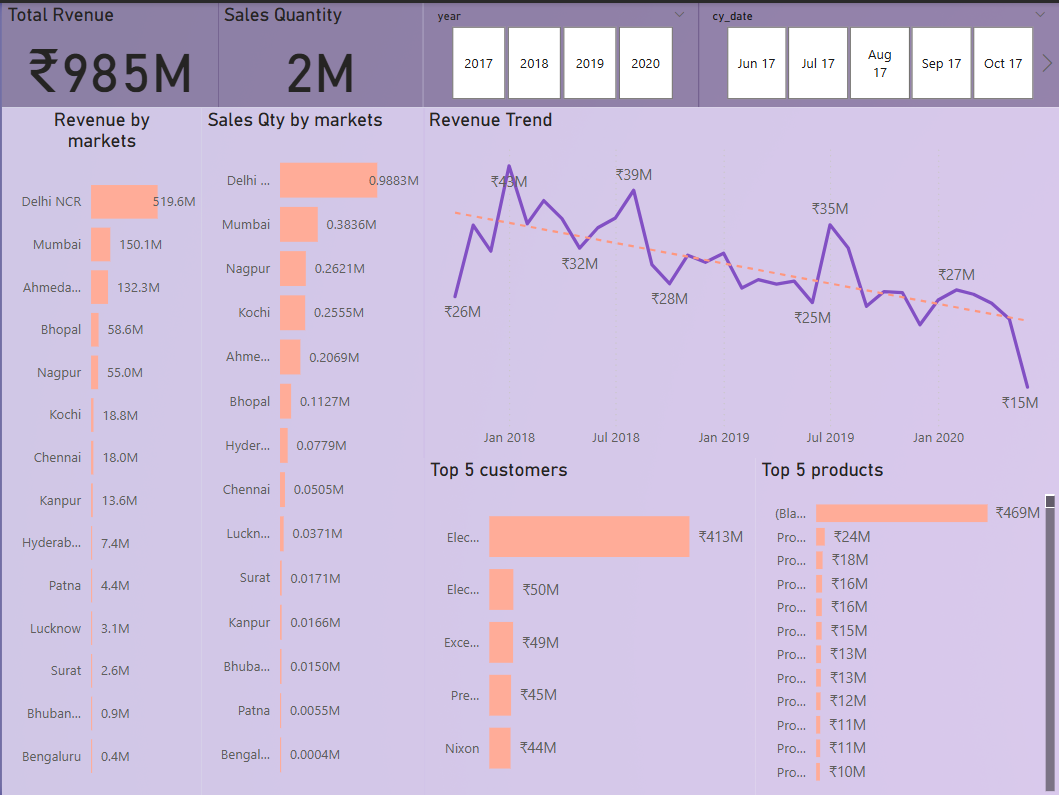

Layout of this report page (visuals, bound fields, positions):
{"tool":"powerbi","page":{"name":"Page 1","canvas":[960,720],"ordinal":0},"visuals":[{"type":"card","fields":{"Values":["BaseMeasures.Revenue"]},"box":[0,0,196.4,95.3],"z":0},{"type":"card","fields":{"Values":["BaseMeasures.Sales Qty"]},"box":[196.4,1.1,186,94.2],"z":1000},{"type":"barChart","title":"Revenue by markets","fields":{"Y":["BaseMeasures.Revenue"],"Category":["sales markets.markets_name","sales customers.customer_type"]},"box":[0,95.3,196.4,624.9],"z":2000},{"type":"barChart","title":"Sales Qty by markets","fields":{"Y":["BaseMeasures.Sales Qty"],"Category":["sales markets.markets_name"]},"box":[196.4,104.5,187.2,615.7],"z":3000},{"type":"slicer","fields":{"Values":["sales date.year"]},"box":[383.7,1.1,248.1,63.2],"z":4000},{"type":"slicer","fields":{"Values":["sales date.cy_date"]},"box":[631.8,1.1,328.5,63.2],"z":5000},{"type":"barChart","title":"Top 5 customers","fields":{"Y":["BaseMeasures.Revenue"],"Category":["sales customers.custmer_name"]},"box":[383.8,412.5,300,307.5],"z":6000},{"type":"barChart","title":"Top 5 products","fields":{"Y":["BaseMeasures.Revenue"],"Category":["sales products.product_code"]},"box":[683.8,412.5,276.2,307.5],"z":7000},{"type":"lineChart","title":"Revenue Trend","fields":{"Y":["BaseMeasures.Revenue"],"Category":["sales date.cy_date.Variation.Date Hierarchy.Year","sales date.cy_date.Variation.Date Hierarchy.Quarter","sales date.cy_date.Variation.Date Hierarchy.Month","sales date.cy_date.Variation.Date Hierarchy.Day"]},"box":[382.5,95,577.5,317.5],"z":8000}]}

Visuals, with their boxes in screenshot pixels (x1, y1, x2, y2), scaled from the page's 960x720 canvas onto the 1059x795 screenshot:
card - BaseMeasures.Revenue: box(0, 0, 217, 105)
card - BaseMeasures.Sales Qty: box(217, 1, 422, 105)
"Revenue by markets" barChart: box(0, 105, 217, 794)
"Sales Qty by markets" barChart: box(217, 115, 423, 794)
slicer - sales date.year: box(423, 1, 697, 71)
slicer - sales date.cy_date: box(697, 1, 1058, 71)
"Top 5 customers" barChart: box(423, 455, 754, 794)
"Top 5 products" barChart: box(754, 455, 1058, 794)
"Revenue Trend" lineChart: box(422, 105, 1058, 455)
